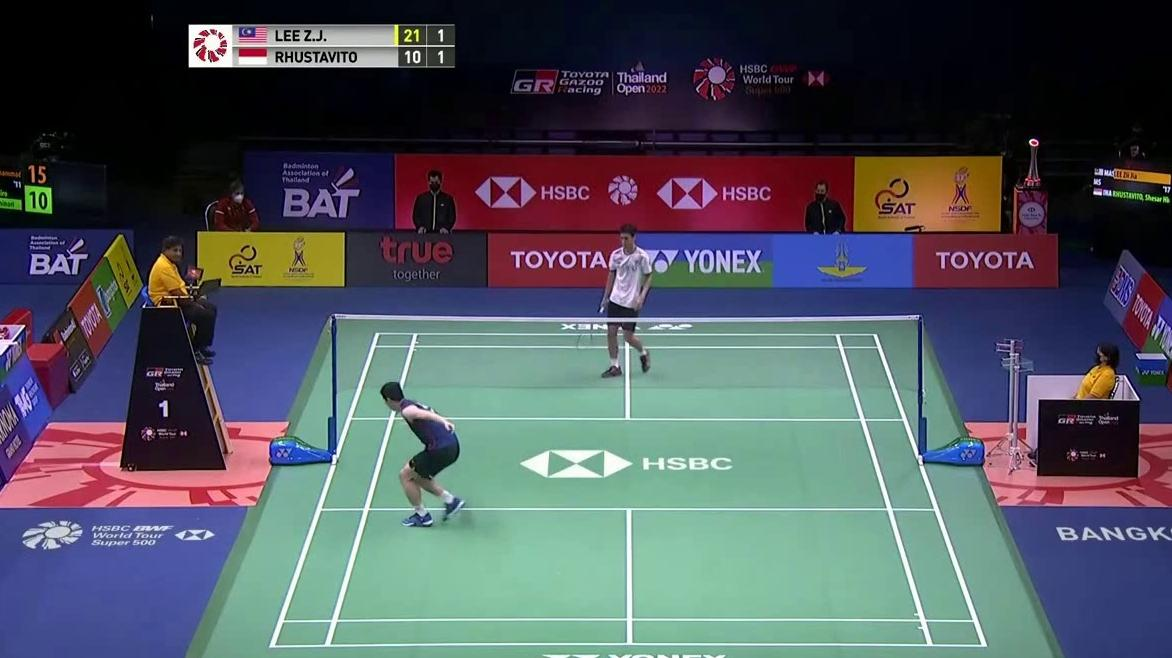racket: (576, 299, 611, 350)
